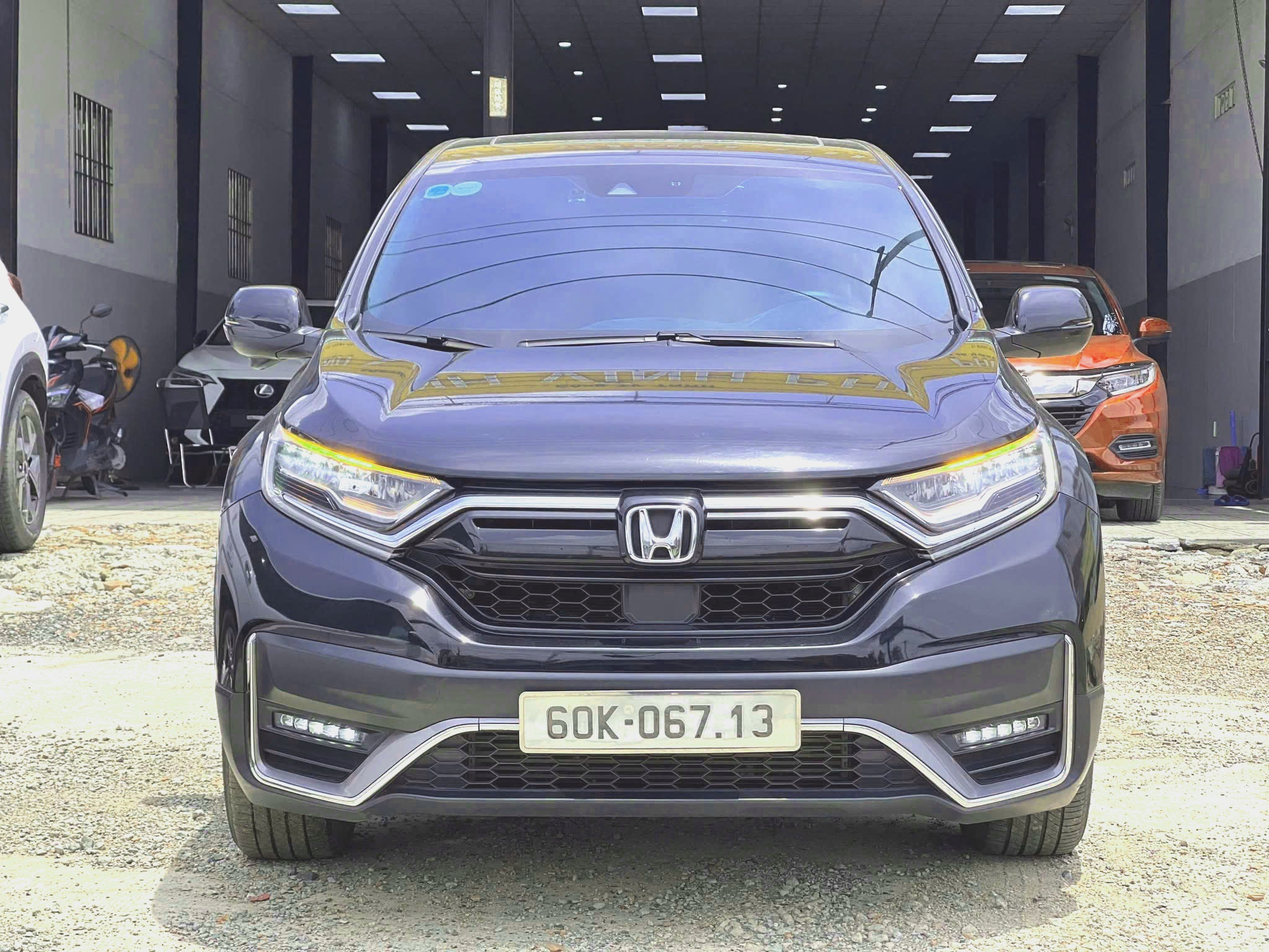Bien-so: (549, 706, 856, 797)
